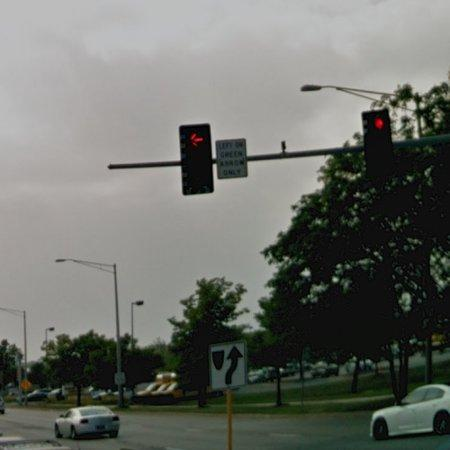traffic lights: (180, 124, 214, 194)
